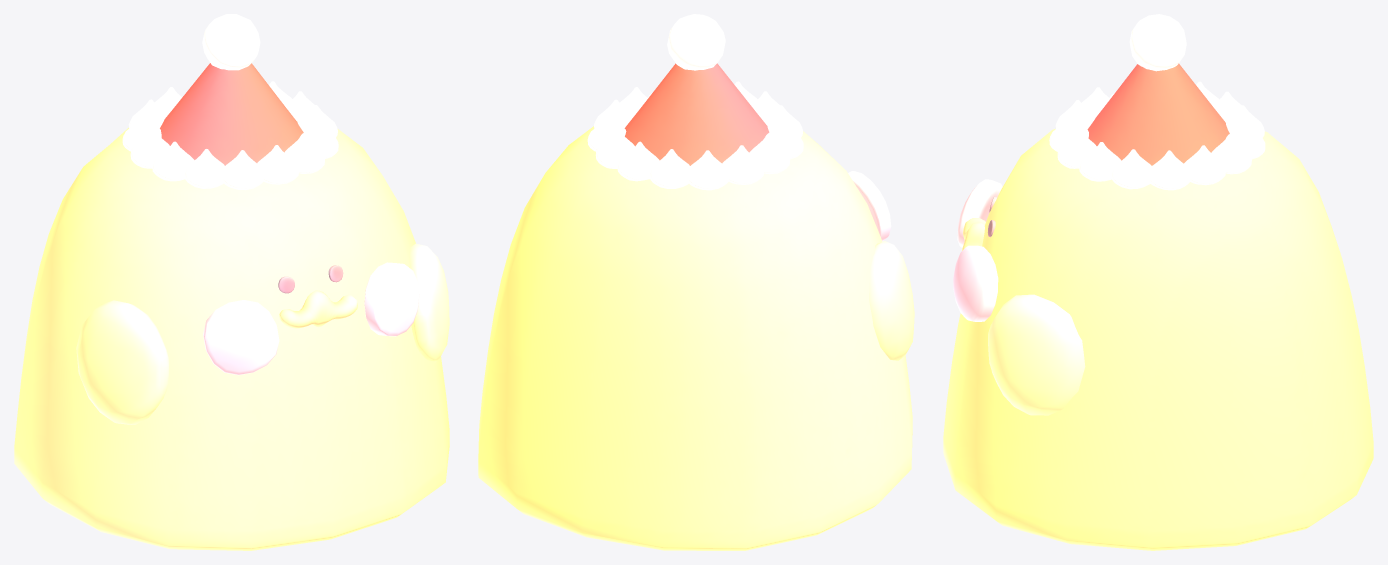
The model's file is figurka_pingwin.glb.
3 renders of one model, left to right at view 1: azimuth 30°, elevation 25°; view 2: azimuth 150°, elevation 25°; view 3: azimuth 270°, elevation 25°, orthographic.
Visible parts, largest first — view 1: Animal73; view 2: Animal73; view 3: Animal73.
Boxes of the visible parts, box(x1,y1,x2,y2) form: Animal73: box(14, 14, 449, 550); Animal73: box(478, 14, 914, 550); Animal73: box(943, 14, 1373, 550).
Bounding box in the file's own units: 0.0246 × 0.0293 × 0.0246.
Materials: 1 (1 with a texture image).
